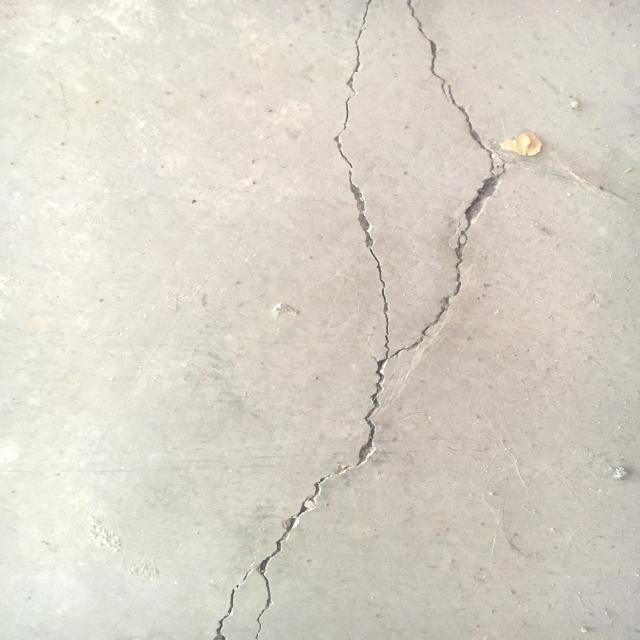SurfaceCrack: (167, 1, 540, 640)
